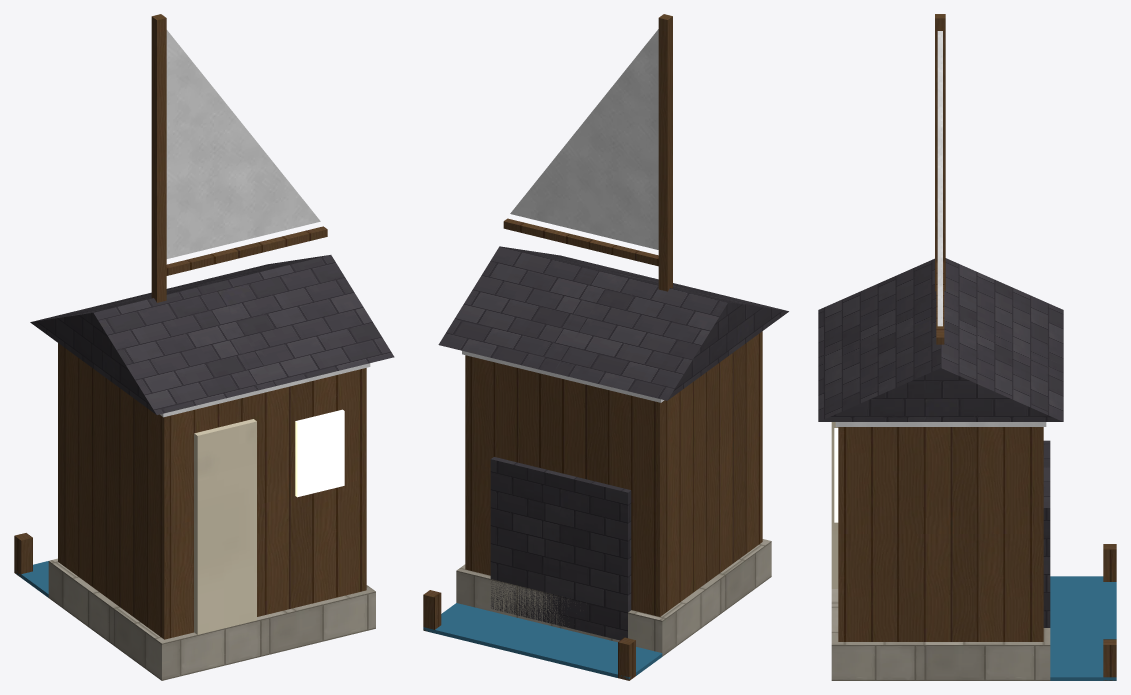
The model's file is protocol.lido.glb.
The picture shows the model from 3 angles, left to right: view 1: azimuth 30°, elevation 25°; view 2: azimuth 150°, elevation 25°; view 3: azimuth 270°, elevation 25°; orthographic projection. The views are drawn at different scales.
Visible parts, largest first — view 1: building.protocol.lido; view 2: building.protocol.lido; view 3: building.protocol.lido.
Boxes of the visible parts, <box> form: building.protocol.lido: <box>14,14,394,680</box>; building.protocol.lido: <box>423,14,788,680</box>; building.protocol.lido: <box>818,14,1116,680</box>.
Bounding box in the file's own units: 2 × 4.9 × 2.25.
Materials: 8 (6 with a texture image).
